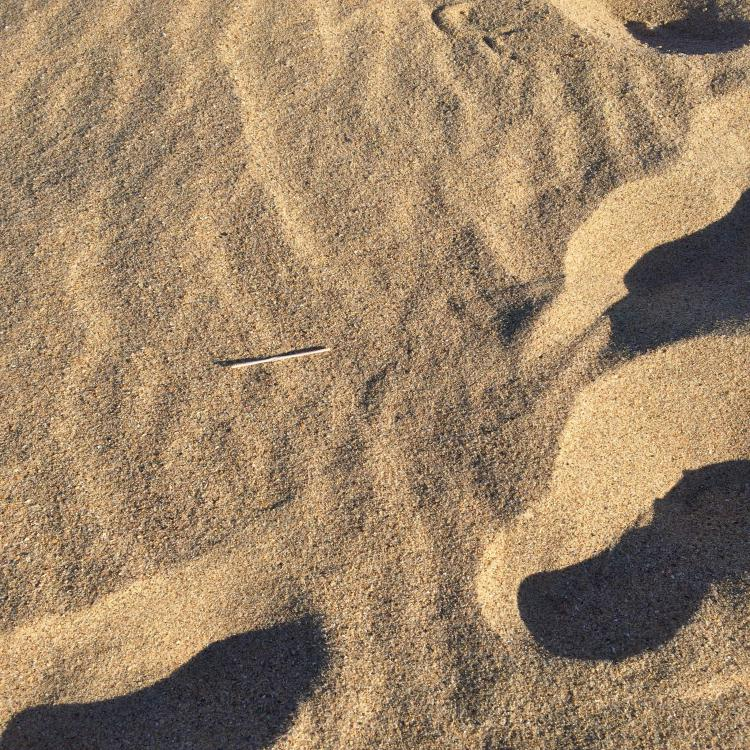Other plastic wrapper: (232, 348, 332, 369)
